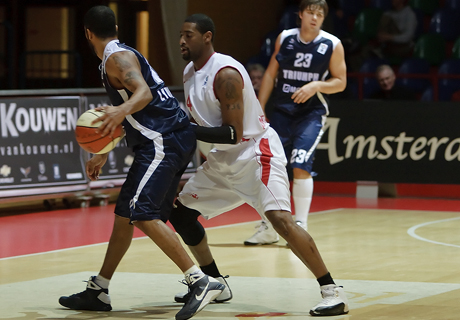basketball: (75, 108, 123, 155)
